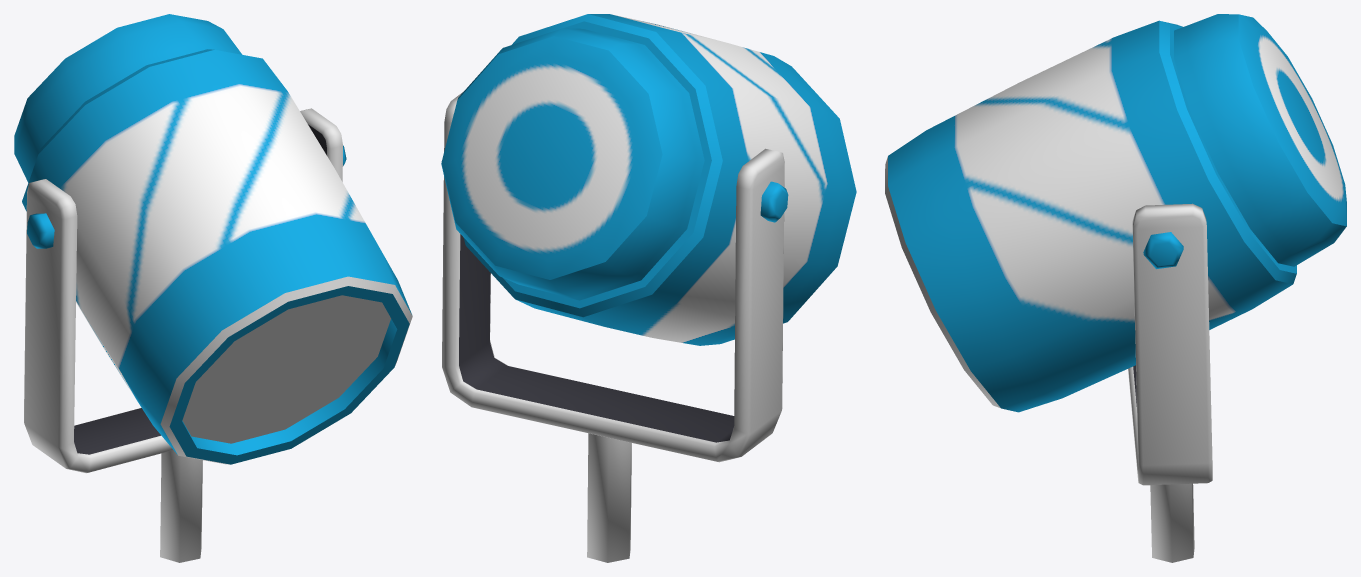
File: Projecteur.fbx
3 renders of one model, left to right at view 1: azimuth 30°, elevation 25°; view 2: azimuth 150°, elevation 25°; view 3: azimuth 270°, elevation 25°, orthographic. The views are drawn at different scales.
Visible parts, largest first — view 1: projecteur; view 2: projecteur; view 3: projecteur.
Part boxes in pixels (x1,y1,x2,y2): projecteur: (14,14,412,562); projecteur: (441,14,856,562); projecteur: (885,14,1346,562).
Bounding box in the file's own units: 13.84 × 21.74 × 17.36.
1 material, 1 textured.
